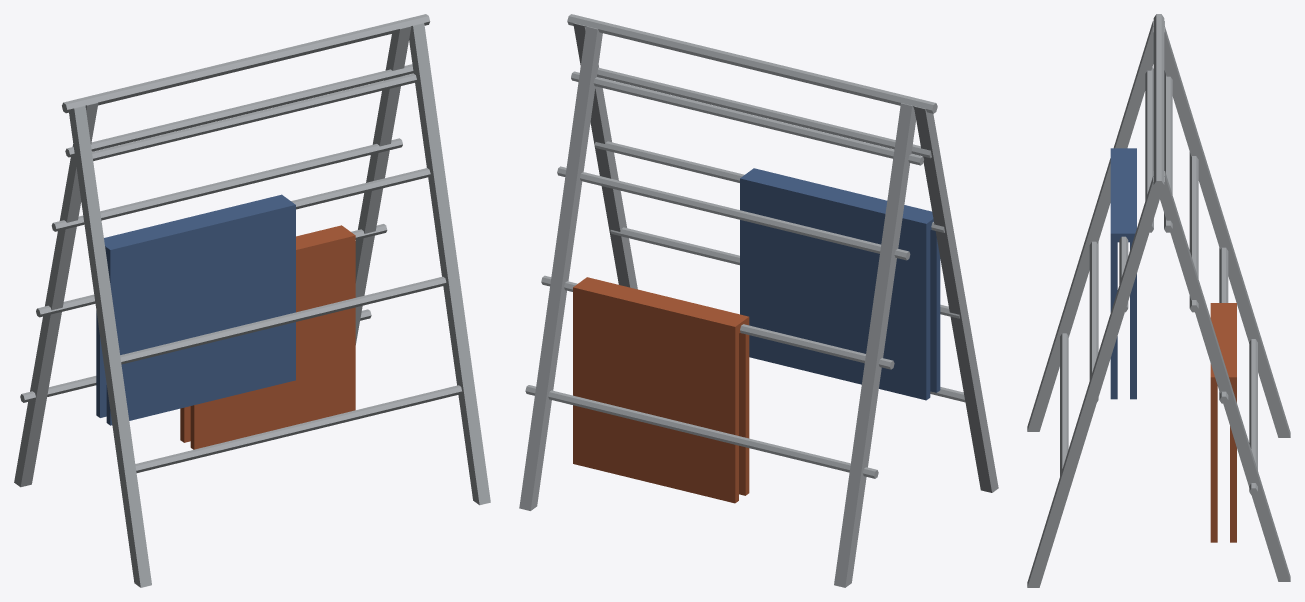
The model's file is FN_Airer_Clothes.glb.
3 renders of one model, left to right at view 1: azimuth 30°, elevation 25°; view 2: azimuth 150°, elevation 25°; view 3: azimuth 270°, elevation 25°, orthographic. The views are drawn at different scales.
Parts seen in each view (by area): view 1: FN_Airer_Clothes; view 2: FN_Airer_Clothes; view 3: FN_Airer_Clothes.
Boxes of the visible parts, x1=… form: FN_Airer_Clothes: x1=14, y1=14, x2=490, y2=587; FN_Airer_Clothes: x1=519, y1=14, x2=998, y2=587; FN_Airer_Clothes: x1=1027, y1=14, x2=1290, y2=587.
Size of the model in its own units: 0.9 by 1.03 by 0.6.
Materials: 1 (1 with a texture image).
